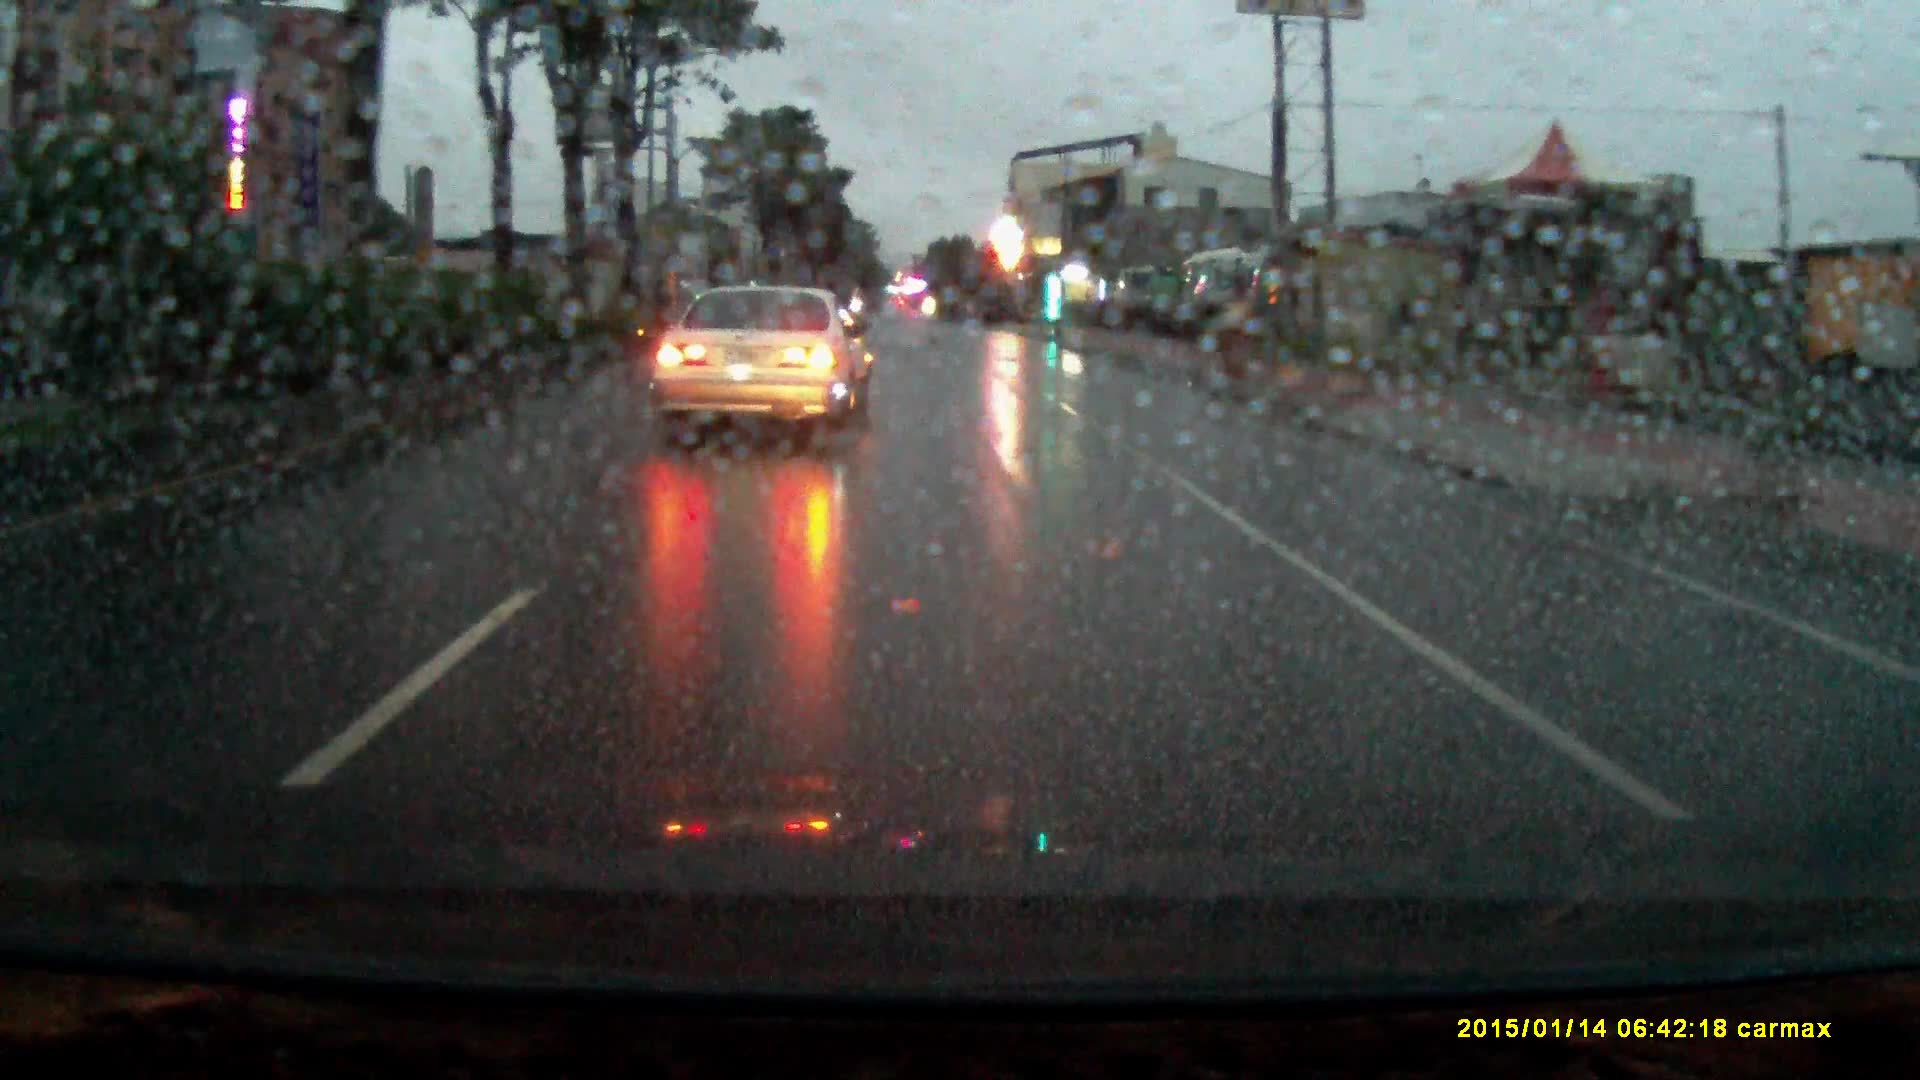vehicle: (650, 287, 881, 451), (1180, 255, 1261, 343), (1113, 268, 1164, 331)
